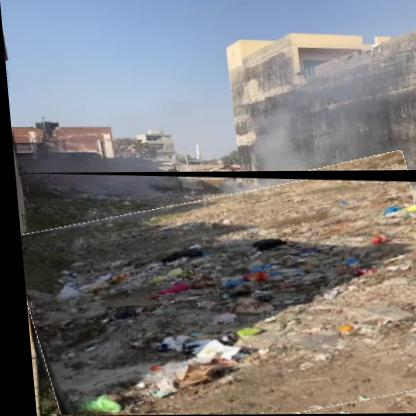Garbage: (13, 171, 416, 416)
